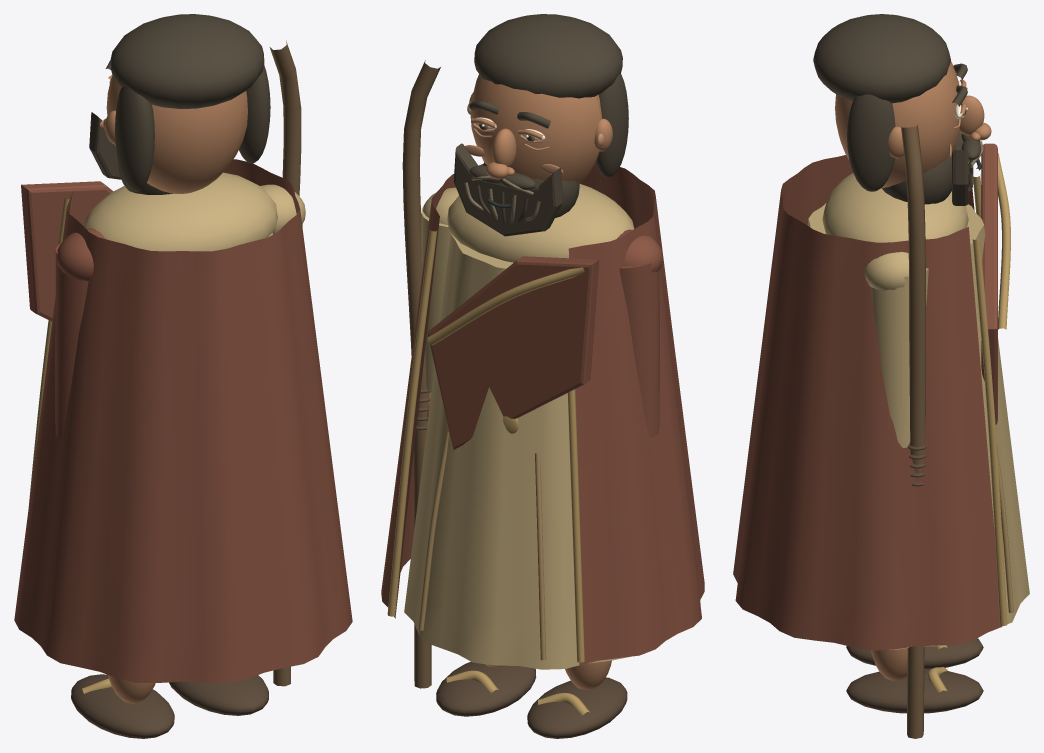
Rendered from zarathustra.glb.
3 views of the same model, side by side, from view 1: azimuth 30°, elevation 25°; view 2: azimuth 150°, elevation 25°; view 3: azimuth 270°, elevation 25° (orthographic). The views are drawn at different scales.
Parts seen in each view (by area): view 1: zarathustra-StandingPose-1, zarathustra-StandingPose-11, zarathustra-StandingPose-0, zarathustra-StandingPose-5, zarathustra-StandingPose-3, zarathustra-StandingPose-6, zarathustra-StandingPose-2; view 2: zarathustra-StandingPose-1, zarathustra-StandingPose-0, zarathustra-StandingPose-11, zarathustra-StandingPose-5, zarathustra-StandingPose-2, zarathustra-StandingPose-3, zarathustra-StandingPose-6, zarathustra-StandingPose-4, zarathustra-StandingPose-7, zarathustra-StandingPose-12; view 3: zarathustra-StandingPose-1, zarathustra-StandingPose-0, zarathustra-StandingPose-11, zarathustra-StandingPose-5, zarathustra-StandingPose-6, zarathustra-StandingPose-3, zarathustra-StandingPose-2, zarathustra-StandingPose-4.
Part boxes in pixels (left/top/right/bottom): zarathustra-StandingPose-1: left=14, top=159, right=352, bottom=683; zarathustra-StandingPose-11: left=89, top=14, right=270, bottom=194; zarathustra-StandingPose-0: left=84, top=172, right=305, bottom=251; zarathustra-StandingPose-5: left=105, top=75, right=247, bottom=703; zarathustra-StandingPose-3: left=71, top=674, right=268, bottom=738; zarathustra-StandingPose-6: left=269, top=40, right=301, bottom=686; zarathustra-StandingPose-2: left=28, top=198, right=111, bottom=693; zarathustra-StandingPose-1: left=381, top=164, right=704, bottom=665; zarathustra-StandingPose-0: left=404, top=184, right=634, bottom=669; zarathustra-StandingPose-11: left=453, top=14, right=628, bottom=236; zarathustra-StandingPose-5: left=427, top=74, right=612, bottom=689; zarathustra-StandingPose-2: left=387, top=229, right=589, bottom=715; zarathustra-StandingPose-3: left=416, top=389, right=627, bottom=738; zarathustra-StandingPose-6: left=402, top=60, right=440, bottom=688; zarathustra-StandingPose-4: left=418, top=431, right=546, bottom=660; zarathustra-StandingPose-7: left=465, top=101, right=604, bottom=174; zarathustra-StandingPose-12: left=464, top=176, right=540, bottom=223; zarathustra-StandingPose-1: left=733, top=143, right=1002, bottom=650; zarathustra-StandingPose-0: left=807, top=173, right=1029, bottom=649; zarathustra-StandingPose-11: left=813, top=14, right=980, bottom=205; zarathustra-StandingPose-5: left=835, top=61, right=991, bottom=680; zarathustra-StandingPose-6: left=901, top=125, right=925, bottom=738; zarathustra-StandingPose-3: left=846, top=445, right=983, bottom=713; zarathustra-StandingPose-2: left=927, top=153, right=1010, bottom=693; zarathustra-StandingPose-4: left=997, top=445, right=1013, bottom=613.
Size of what is drawn, in the model's own units: 0.8044 by 1.84 by 0.7508.
